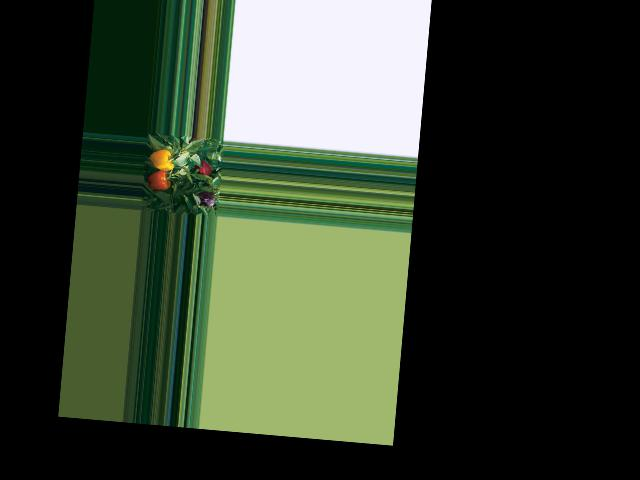bell_pepper: (149, 148, 176, 176)
